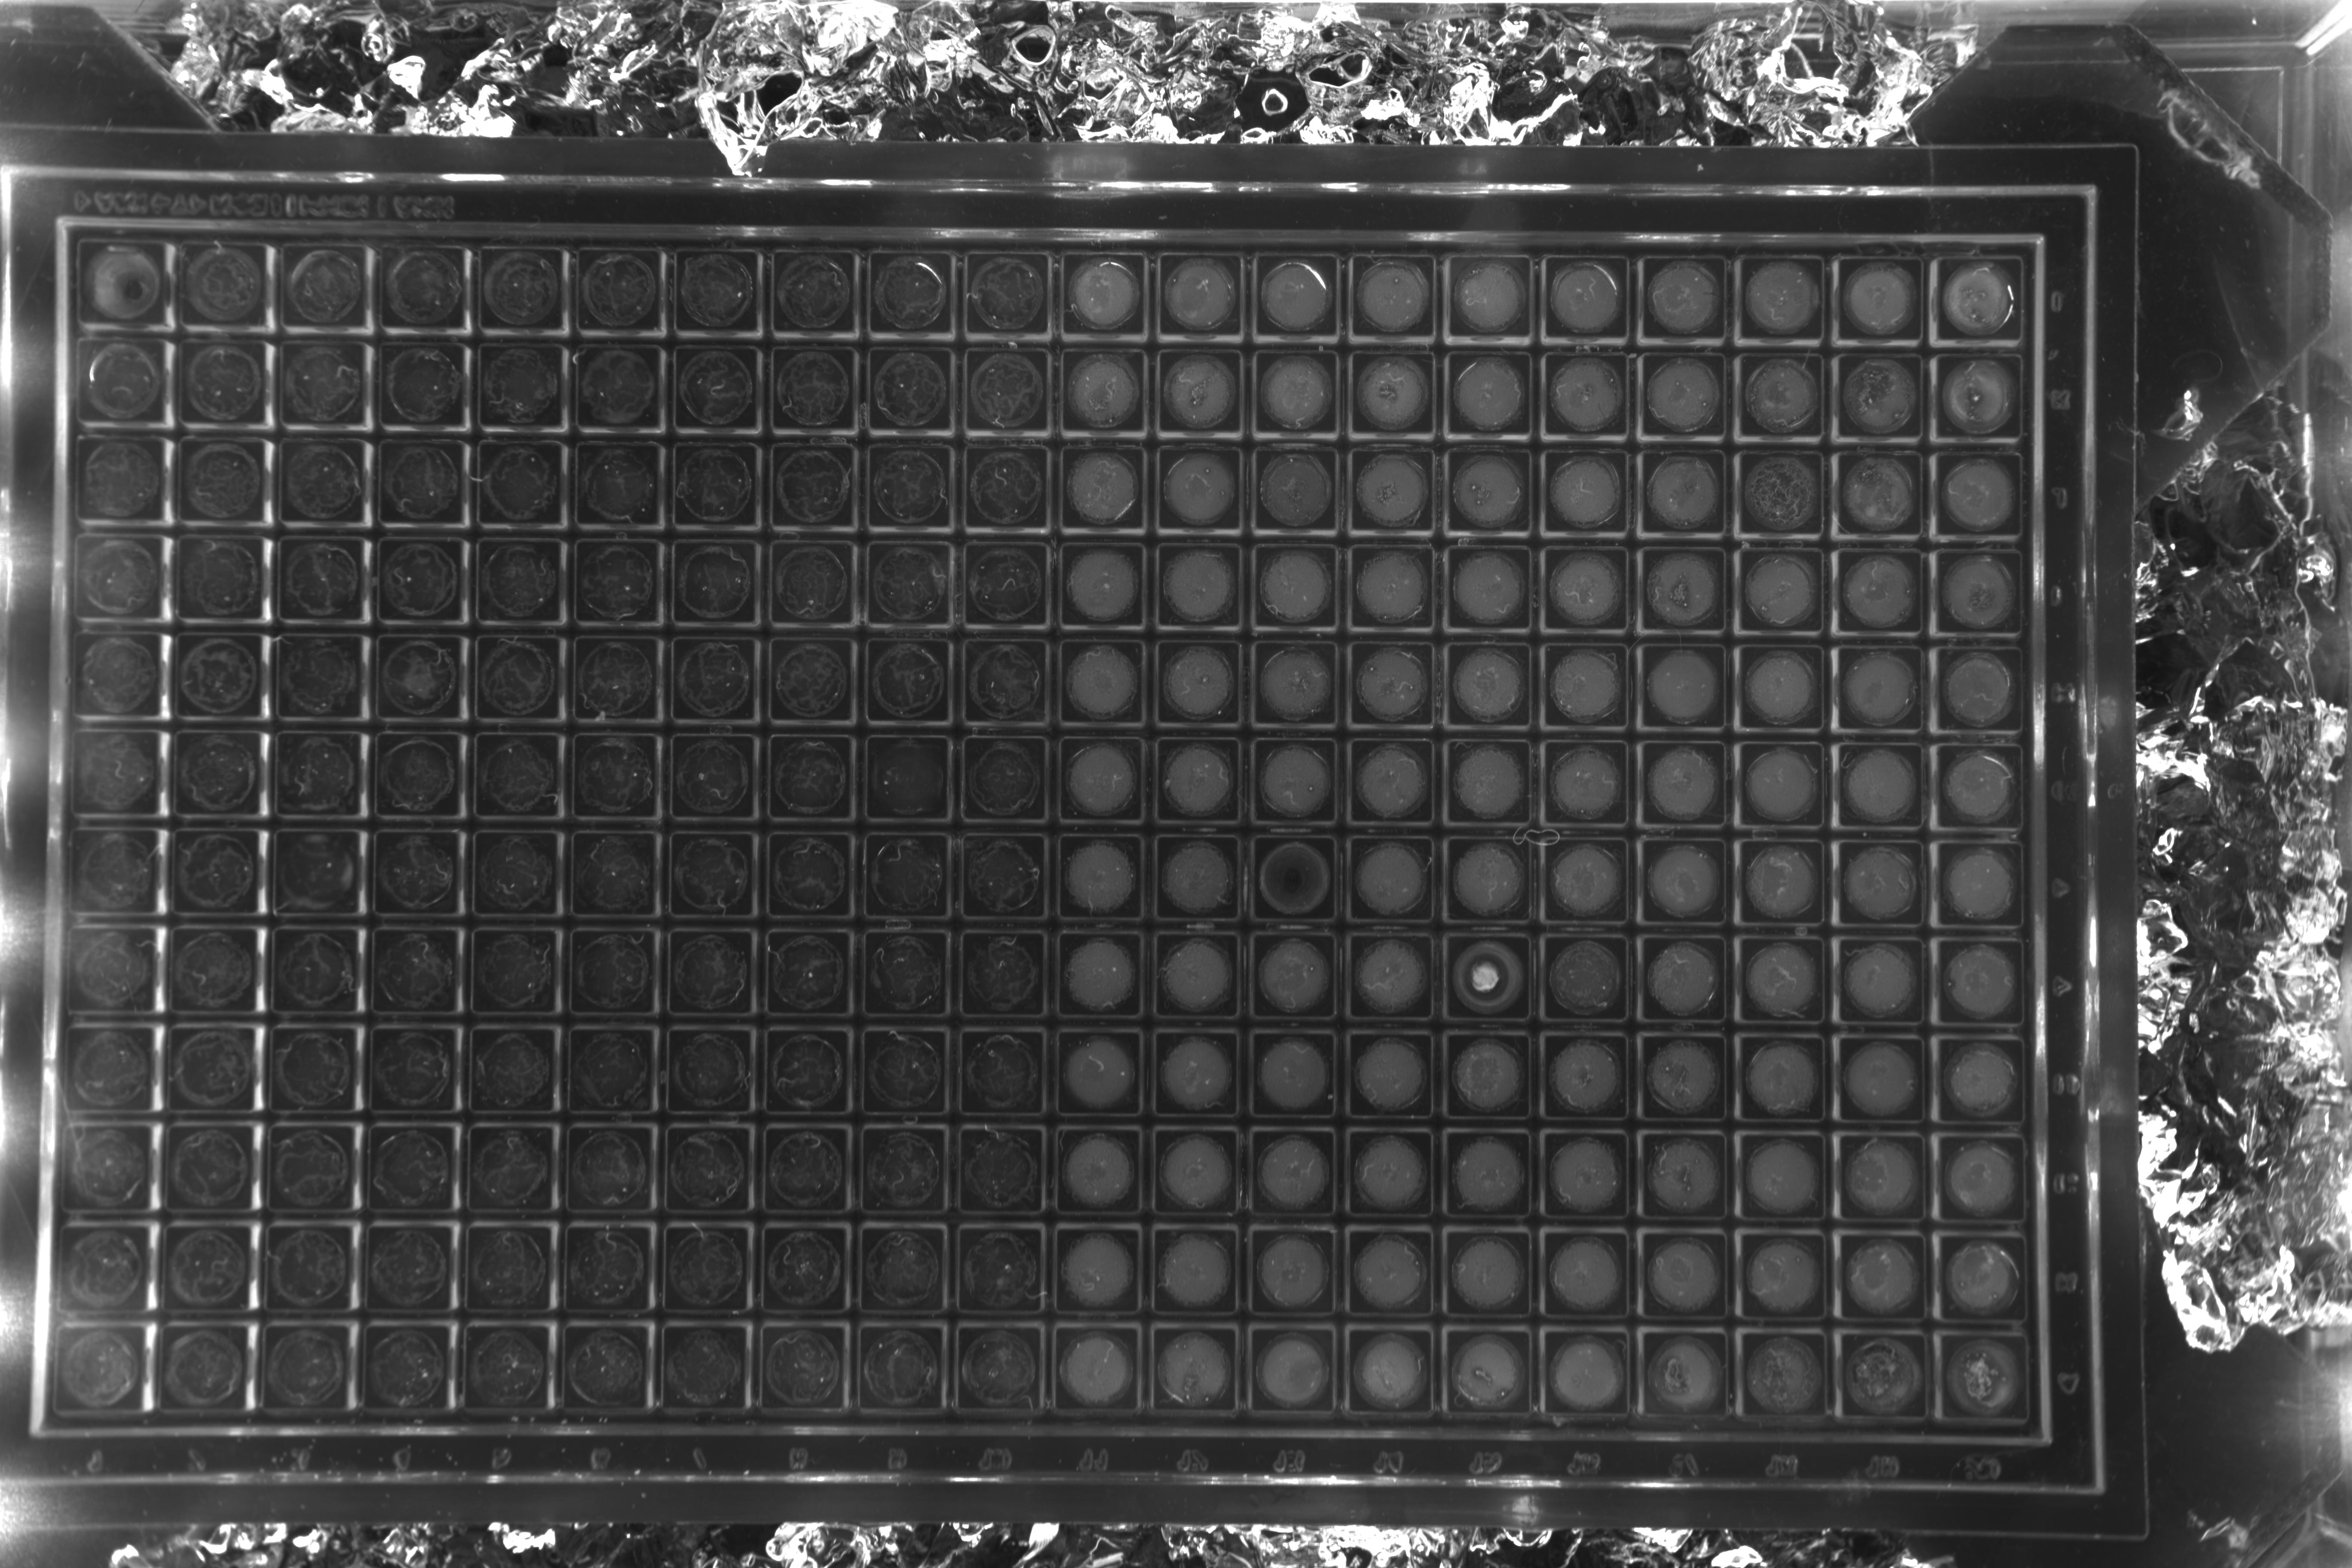WM_well: (789, 268, 878, 355), (205, 360, 292, 448), (303, 360, 390, 448), (401, 264, 488, 352), (595, 362, 682, 450), (688, 1141, 775, 1228), (884, 1141, 971, 1228), (887, 366, 975, 453), (983, 366, 1071, 453), (1080, 560, 1167, 647), (1176, 656, 1263, 744), (1176, 754, 1263, 842), (1176, 947, 1263, 1034), (1272, 560, 1360, 647), (1465, 269, 1552, 357), (1465, 464, 1552, 551), (1466, 560, 1554, 647), (1466, 850, 1554, 938), (1563, 464, 1650, 551), (1563, 560, 1650, 647), (1568, 1344, 1655, 1431), (1666, 1246, 1753, 1333), (1864, 1150, 1951, 1237)
